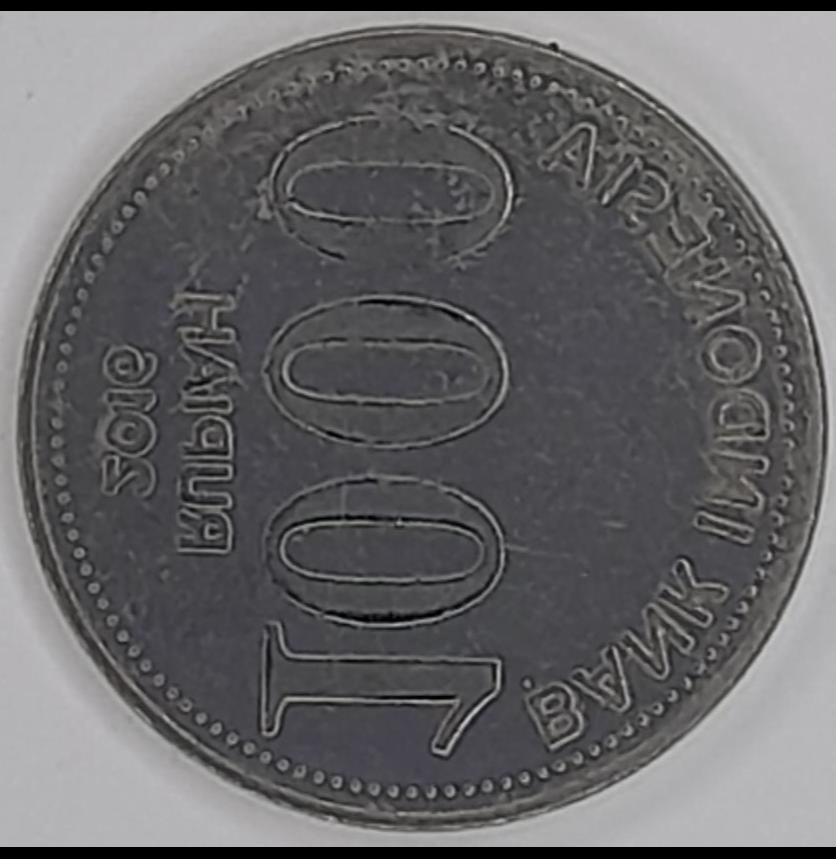coin_1000_e2016: (14, 17, 825, 859)
